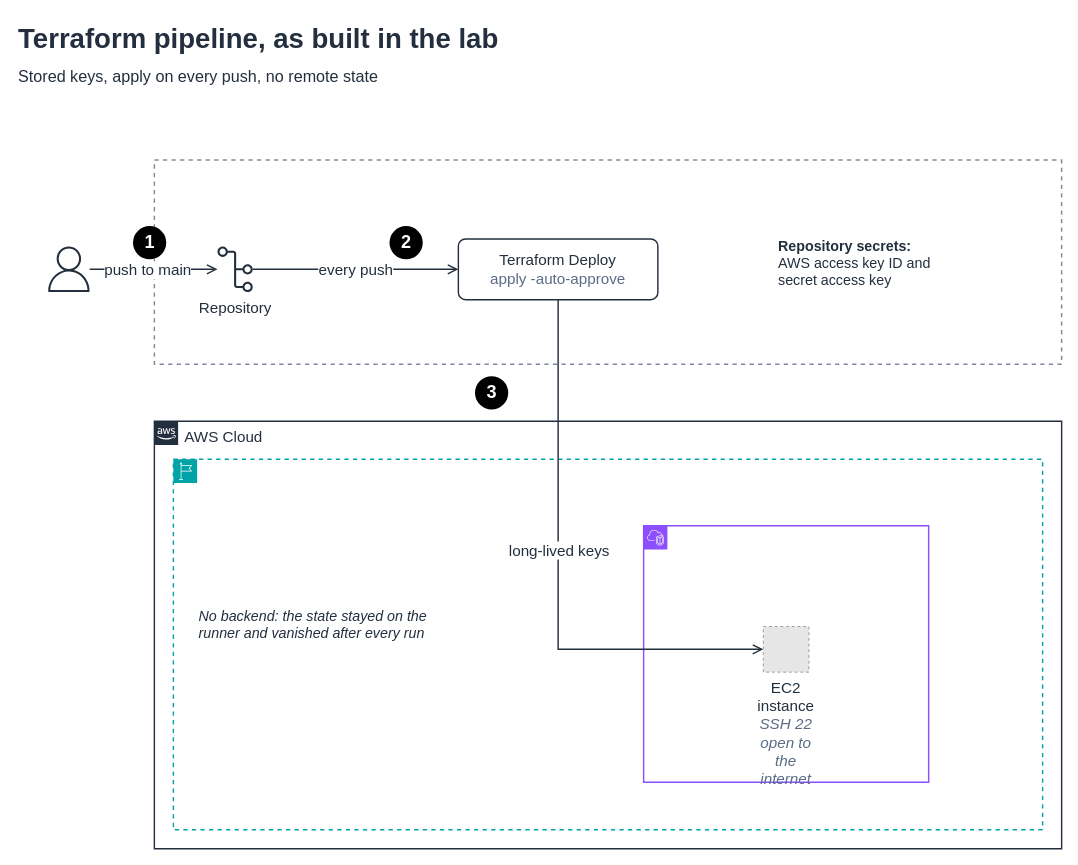
This 1078x865 diagram has some shape labels left out. Grey dashed boxes stand in for pictures. The box of each missing label's shape, as (x1, y1, x2, y2) in pixels:
Developer: (46, 246, 91, 292)
Europe (London) eu-west-2: (172, 458, 1043, 830)
GitHub: the original pipeline repository: (153, 159, 1062, 365)
VPC: (642, 525, 929, 783)
